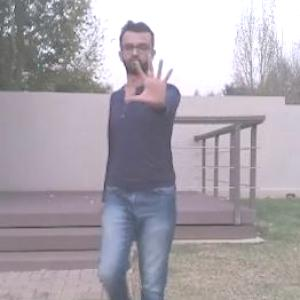follow_hand: (123, 50, 178, 108)
